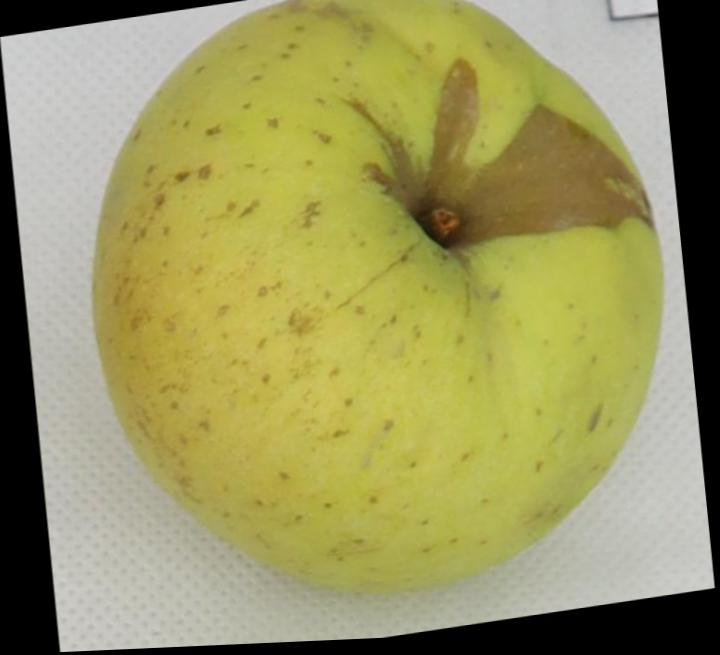apple: (94, 0, 662, 591)
bruise_discoloration: (348, 58, 653, 248)
